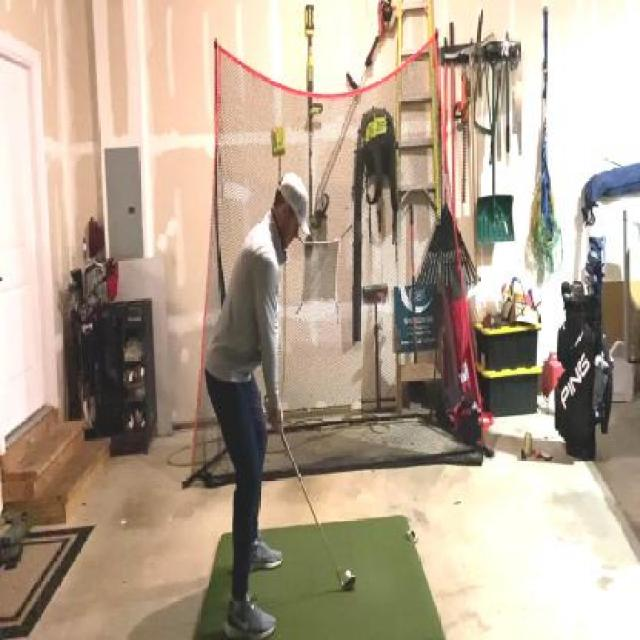club head: (337, 572, 355, 591)
